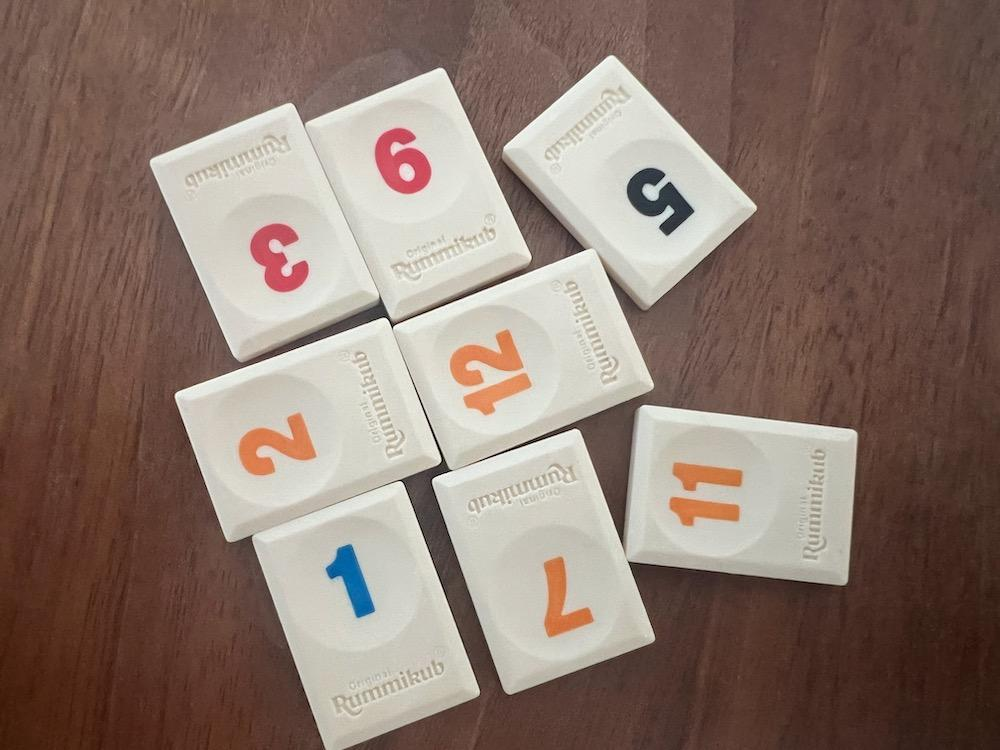black_5: (504, 57, 756, 309)
blue_1: (254, 482, 479, 748)
orange_11: (625, 406, 857, 586)
orange_12: (395, 250, 652, 469)
orange_2: (176, 318, 441, 541)
orange_7: (432, 430, 654, 693)
red_3: (150, 104, 377, 361)
red_6: (307, 68, 531, 320)
